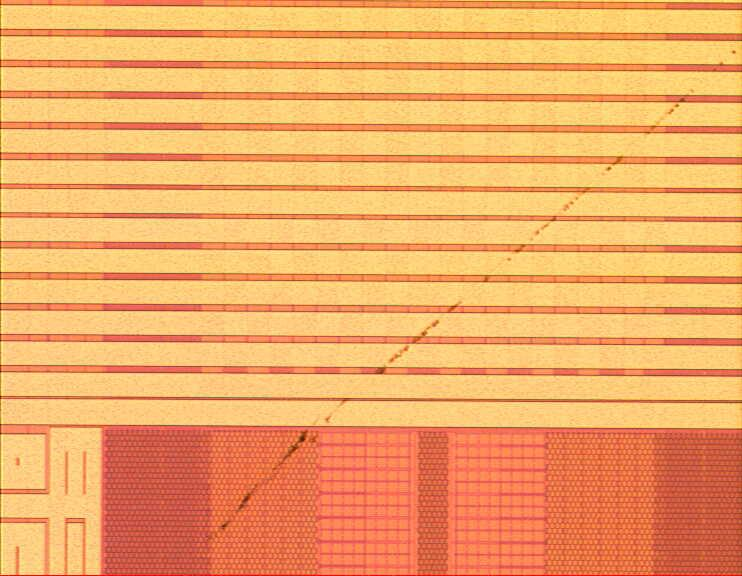SCRATCH: (197, 40, 742, 555)
